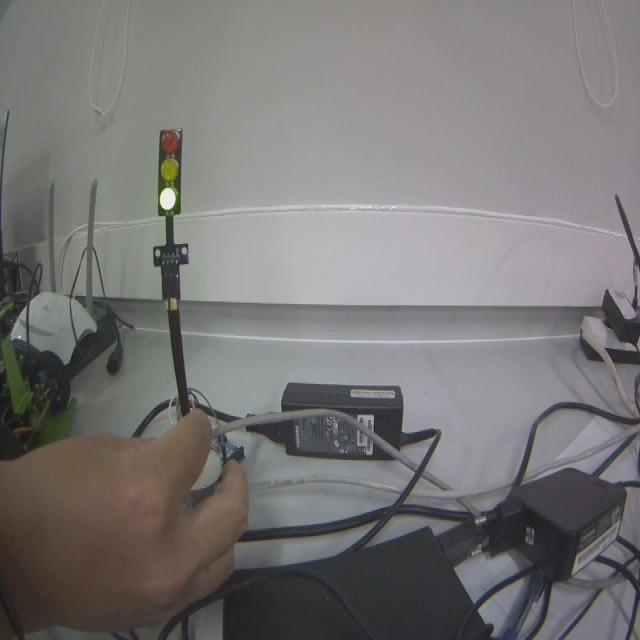Lampu Hijau: (156, 128, 183, 217)
